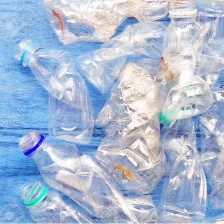bottle: (11, 49, 216, 137)
